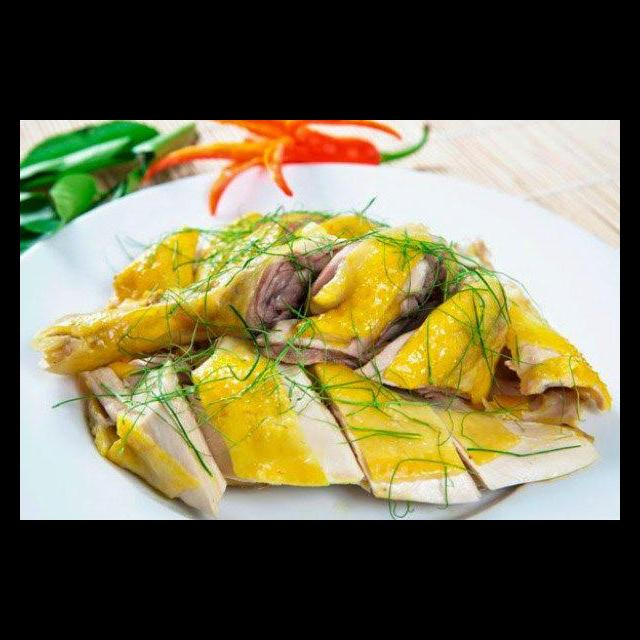thit ga: (27, 230, 353, 379), (176, 330, 373, 493), (249, 223, 464, 372), (308, 355, 487, 506), (76, 349, 231, 520), (347, 267, 514, 414), (478, 277, 615, 434), (426, 395, 601, 495), (184, 203, 336, 295), (107, 225, 207, 303)
